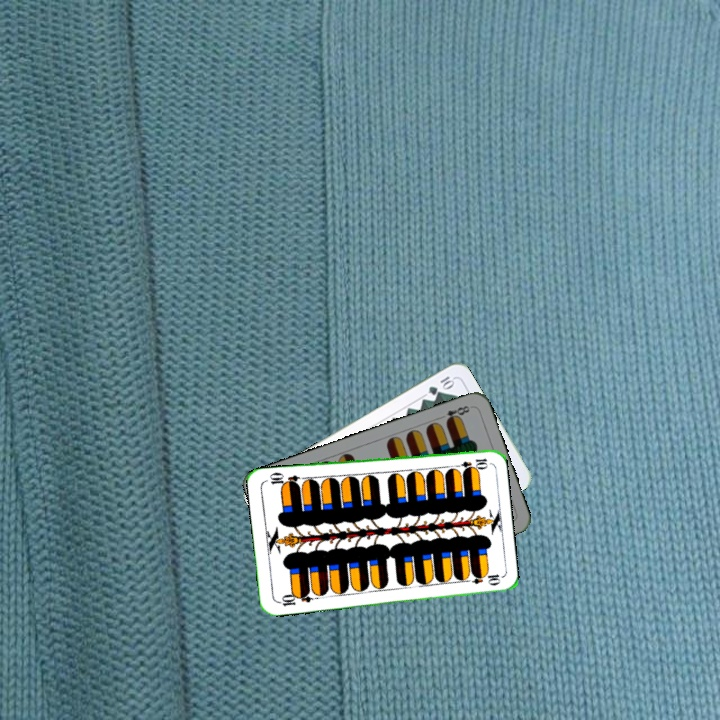E10: (274, 588, 314, 609), (450, 454, 490, 472)
E8: (435, 401, 472, 425)
G10: (424, 372, 457, 398)
